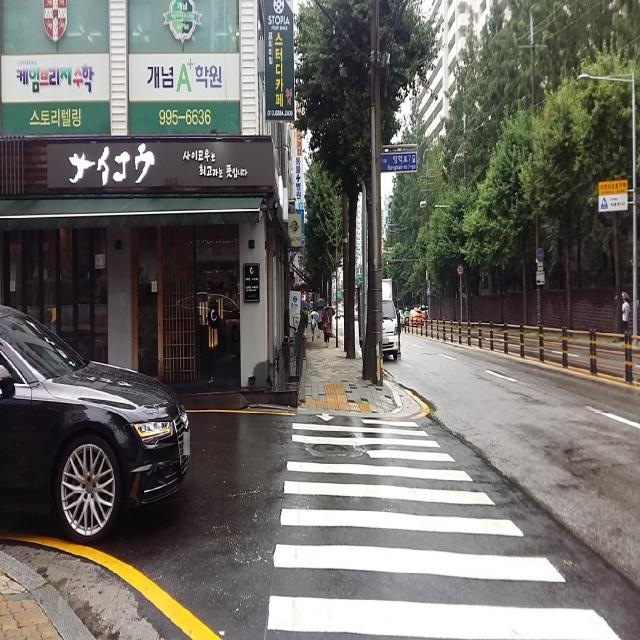횡단보도: (264, 409, 624, 640)
